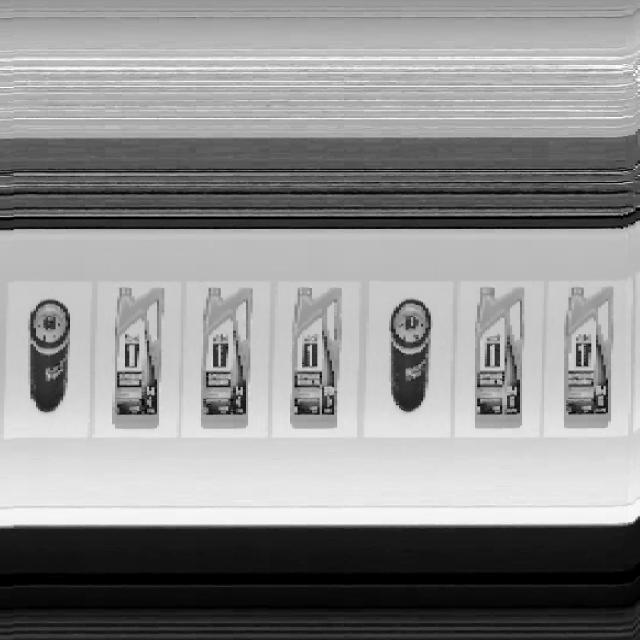motor_oil: (464, 279, 532, 440), (192, 280, 256, 439), (103, 280, 168, 434), (284, 280, 346, 440), (556, 279, 618, 439)
oil_filter: (383, 290, 438, 424), (21, 295, 75, 415)
